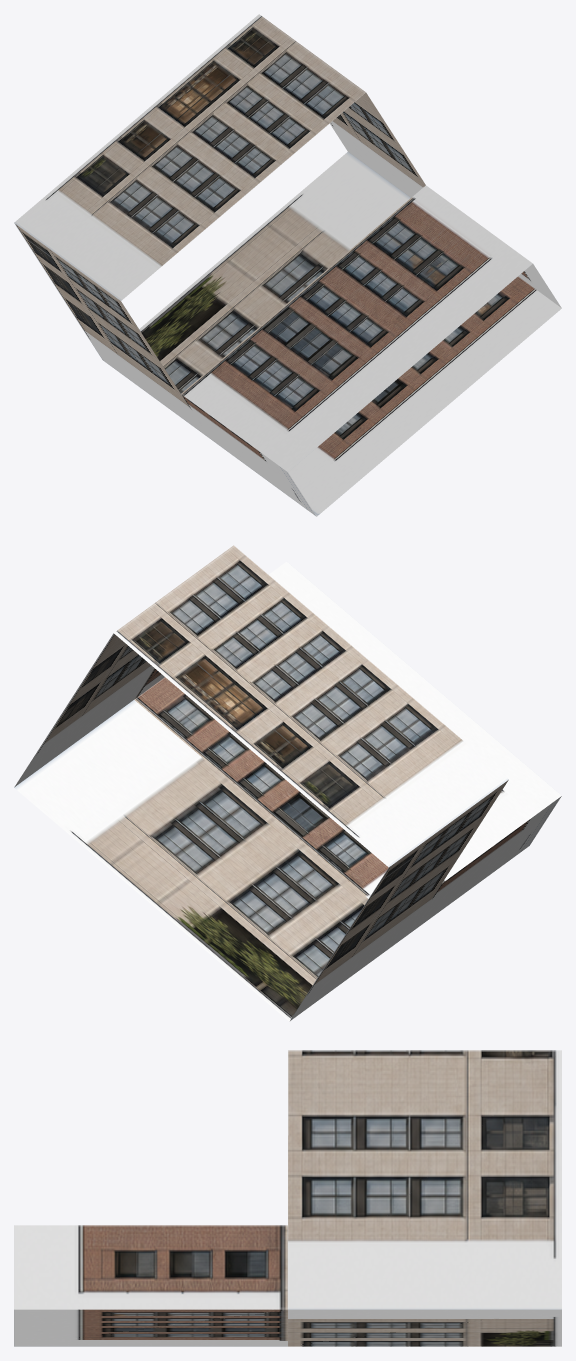
The picture shows the model from 3 angles, top to bottom: view 1: azimuth 30°, elevation 25°; view 2: azimuth 150°, elevation 25°; view 3: azimuth 270°, elevation 25°; orthographic projection. The views are drawn at different scales.
Visible parts, largest first — view 1: MAAS textured facade mesh; view 2: MAAS textured facade mesh; view 3: MAAS textured facade mesh.
Part boxes in pixels (left/top/right/bottom): MAAS textured facade mesh: left=14, top=14, right=561, bottom=516; MAAS textured facade mesh: left=14, top=545, right=561, bottom=1021; MAAS textured facade mesh: left=14, top=1050, right=561, bottom=1346.
Size of the model in its own units: 15.13 by 13.33 by 16.8.
Materials: 1 (1 with a texture image).
